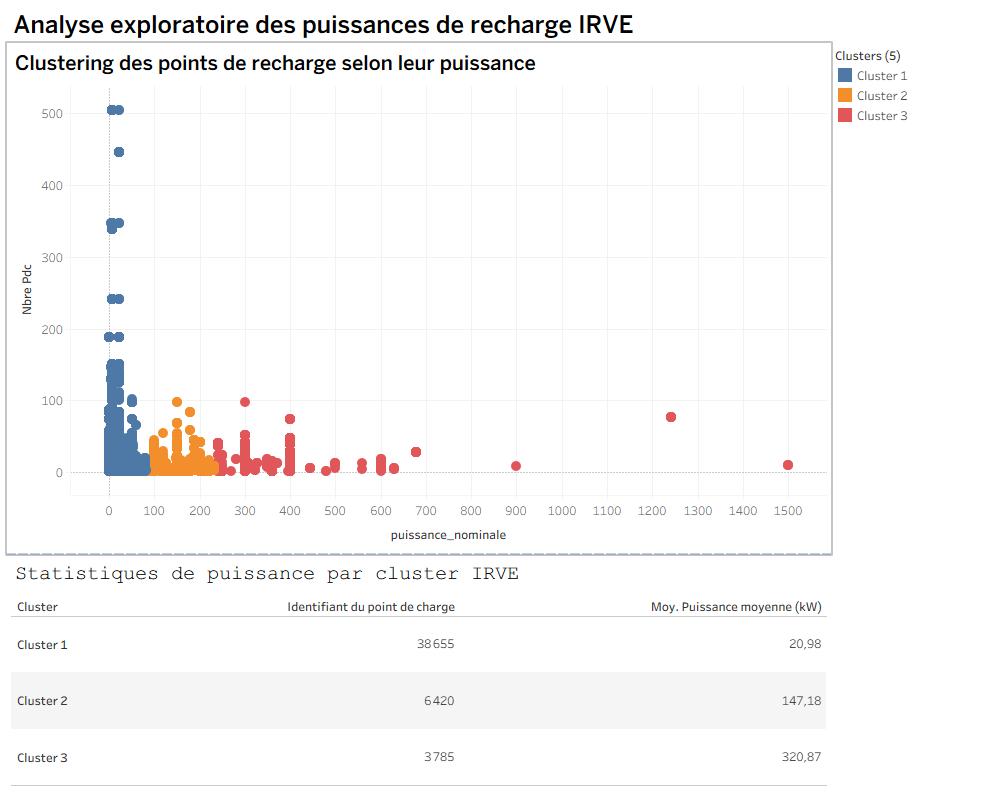

This screenshot's page, from the dashboard's own definition file:
{"tool":"tableau","page":{"name":"Clustering des puissances","canvas":[1000,800],"ordinal":2},"visuals":[{"type":"title","box":[8,8,984,37]},{"type":"worksheet","title":"Clustering des puissance","mark":"Circle","rows":["nbre_pdc"],"cols":["puissance_nominale"],"box":[8,45,824,511]},{"type":"legend","title":"Clustering des puissance","param":"[federated.1jgg8bd0r8gsn91gdoh5a1fury0i].[none:AdhocCluster:6:ok]","box":[832,45,160,86]},{"type":"worksheet","title":"Statistiques de puissance par cluster IRVE","mark":"Automatic","rows":["f1"],"box":[8,556,824,236]}]}

Visuals, with their boxes in screenshot pixels (x1, y1, x2, y2), scaled from the page's 1000x800 canvas onto the 991x794 screenshot:
title: <box>8,8,983,45</box>
"Clustering des puissance" worksheet (Circle marks): <box>8,45,825,552</box>
"Clustering des puissance" legend: <box>825,45,983,130</box>
"Statistiques de puissance par cluster IRVE" worksheet: <box>8,552,825,786</box>
